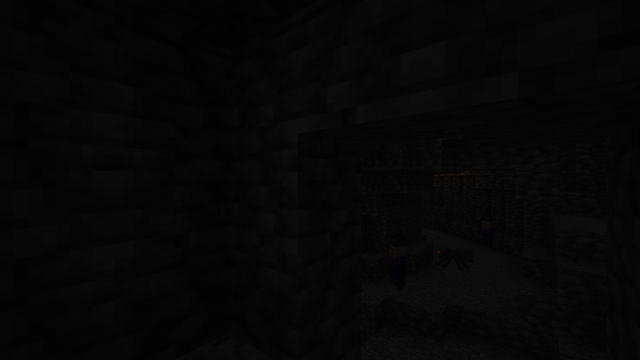araignees: (435, 243, 469, 270)
sorcieres: (387, 240, 406, 292), (481, 218, 492, 249)
